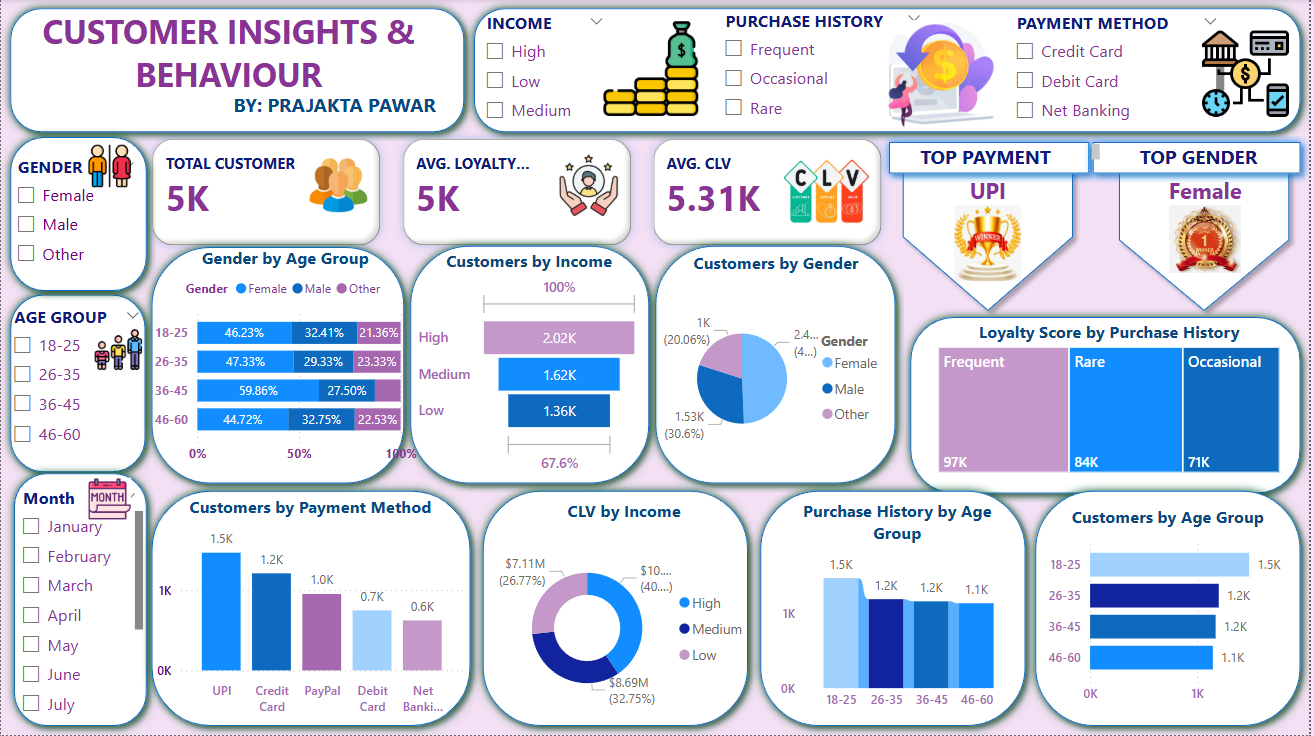

The dashboard page shown, as its layout file describes it:
{"tool":"powerbi","page":{"name":"Customer Insights & Behavior","canvas":[1280,720],"ordinal":2},"visuals":[{"type":"shape","box":[0,0,462.2,139.4],"z":0},{"type":"shape","box":[453.7,0,826.6,139.4],"z":1000},{"type":"shape","box":[0,280,150.4,192],"z":2000},{"type":"cardVisual","fields":{"Data":["updated_customer_data.TOTAL CUSTOMER","updated_customer_data.avg loyalty score","updated_customer_data.Avg Customer Lifetime Value"]},"box":[132.1,121.1,747.2,137],"z":3000},{"type":"shape","box":[873.1,151.6,184.6,162.6],"z":4000},{"type":"shape","title":"TOP PRODUCT","box":[859.7,130.8,214,48.9],"z":5000},{"type":"shape","box":[3.7,454.9,148,265.4],"z":6000},{"type":"shape","box":[138.2,472,330.2,248.2],"z":7000},{"type":"shape","box":[462.2,472,277.6,248.2],"z":8000},{"type":"shape","box":[138.2,233.6,265.4,249.5],"z":9000},{"type":"shape","box":[631,232.3,253.1,250.7],"z":10000},{"type":"shape","box":[391.3,232.3,251.9,250.7],"z":11000},{"type":"slicer","fields":{"Values":["updated_sales_data.Date.Variation.Date Hierarchy.Month"]},"box":[8.6,472,135.7,234.8],"z":12000},{"type":"slicer","fields":{"Values":["updated_customer_data.Age Group"]},"box":[0,294.7,148,149.2],"z":13000},{"type":"slicer","fields":{"Values":["updated_customer_data.Income Level"]},"box":[462.2,7.3,139.4,123.5],"z":14000},{"type":"slicer","fields":{"Values":["updated_customer_data.Purchase History"]},"box":[695.8,4.9,216.4,118.6],"z":15000},{"type":"slicer","fields":{"Values":["updated_sales_data.Payment Method"]},"box":[980.7,7.3,221.3,122.3],"z":16000},{"type":"cardVisual","fields":{"Data":["updated_customer_data.Top Payment Method"]},"box":[882.9,148,165.1,145.5],"z":17000},{"type":"shape","box":[1084.7,157.7,184.6,156.5],"z":18000},{"type":"shape","box":[1059,130.8,221.3,48.9],"z":19000},{"type":"textbox","box":[0,4.9,445.1,108.8],"z":20000},{"type":"textbox","box":[222.6,85.6,299.6,51.4],"z":21000},{"type":"cardVisual","fields":{"Data":["updated_customer_data.Top Gender"]},"box":[1085.9,148,184.6,166.3],"z":22000},{"type":"image","box":[1169,15.9,96.6,113.7],"z":23000},{"type":"textbox","box":[859.7,137,220.1,33],"z":24000},{"type":"textbox","box":[1073.6,137,195.7,42.8],"z":25000},{"type":"hundredPercentStackedBarChart","title":"Gender by Age Group","fields":{"Category":["updated_customer_data.Age Group"],"Y":["CountNonNull(updated_customer_data.Gender)"],"Series":["updated_customer_data.Gender"]},"box":[144.3,242.1,267.8,221.3],"z":26000},{"type":"shape","box":[0,126,151.6,168.8],"z":27000},{"type":"slicer","fields":{"Values":["updated_customer_data.Gender"]},"box":[3.7,148,139.4,132.1],"z":28000},{"type":"image","box":[584.5,4.9,102.7,126],"z":29000},{"type":"image","box":[859.7,15.9,121.1,114.9],"z":30000},{"type":"image","box":[80.7,137,51.4,52.6],"z":31000},{"type":"image","box":[86.8,314.3,56.3,57.5],"z":32000},{"type":"image","box":[80.7,463.5,51.4,51.4],"z":33000},{"type":"funnel","title":"Customers by Income ","fields":{"Category":["updated_customer_data.Income Level"],"Y":["CountNonNull(updated_customer_data.Customer ID)"]},"box":[403.5,244.6,226.2,223.8],"z":34000},{"type":"clusteredColumnChart","title":"Customers by Payment Method","fields":{"Category":["updated_customer_data.Preferred Payment Method"],"Y":["CountNonNull(updated_customer_data.Customer ID)"]},"box":[148,485.5,309.4,222.6],"z":35000},{"type":"shape","box":[880.4,302,399.9,190.8],"z":36000},{"type":"treemap","title":"Loyalty Score by Purchase History","fields":{"Group":["updated_customer_data.Purchase History"],"Values":["Sum(updated_customer_data.Loyalty Score)"]},"box":[912.2,314.3,343.6,154.1],"z":37000},{"type":"shape","box":[733.7,472,277.6,248.2],"z":38000},{"type":"shape","box":[1002.7,472,277.6,248.2],"z":39000},{"type":"columnChart","title":"Purchase History by Age Group","fields":{"Y":["CountNonNull(updated_customer_data.Purchase History)"],"Category":["updated_customer_data.Age Group"]},"box":[758.2,489.1,237.2,215.2],"z":40000},{"type":"pieChart","title":"Customers by Gender","fields":{"Y":["CountNonNull(updated_customer_data.Customer ID)"],"Category":["updated_customer_data.Gender"]},"box":[643.2,247,229.9,227.4],"z":41000},{"type":"barChart","title":"Customers  by Age Group","fields":{"Category":["updated_customer_data.Age Group"],"Y":["CountNonNull(updated_customer_data.Customer ID)"]},"box":[1018.6,495.2,245.8,203],"z":42000},{"type":"donutChart","title":"CLV by Income","fields":{"Category":["updated_customer_data.Income Level"],"Y":["Sum(updated_customer_data.Customer Lifetime Value ($))"]},"box":[479.4,489.1,260.5,231.1],"z":43000}]}

Visuals, with their boxes in screenshot pixels (x1, y1, x2, y2), scaled from the page's 1280x720 canvas onto the 1314x736 screenshot:
shape: (0,0,474,142)
shape: (466,0,1313,142)
shape: (0,286,154,482)
cardVisual - updated_customer_data.TOTAL CUSTOMER x updated_customer_data.avg loyalty score: (136,124,903,264)
shape: (896,155,1086,321)
"TOP PRODUCT" shape: (883,134,1102,184)
shape: (4,465,156,735)
shape: (142,482,481,735)
shape: (474,482,759,735)
shape: (142,239,414,494)
shape: (648,237,908,494)
shape: (402,237,660,494)
slicer - updated_sales_data.Date.Variation.Date Hierarchy.Month: (9,482,148,723)
slicer - updated_customer_data.Age Group: (0,301,152,454)
slicer - updated_customer_data.Income Level: (474,7,618,134)
slicer - updated_customer_data.Purchase History: (714,5,936,126)
slicer - updated_sales_data.Payment Method: (1007,7,1234,132)
cardVisual - updated_customer_data.Top Payment Method: (906,151,1076,300)
shape: (1114,161,1303,321)
shape: (1087,134,1313,184)
textbox: (0,5,457,116)
textbox: (229,88,536,140)
cardVisual - updated_customer_data.Top Gender: (1115,151,1304,321)
image: (1200,16,1299,132)
textbox: (883,140,1108,174)
textbox: (1102,140,1303,184)
"Gender by Age Group" hundredPercentStackedBarChart: (148,247,423,474)
shape: (0,129,156,301)
slicer - updated_customer_data.Gender: (4,151,147,286)
image: (600,5,705,134)
image: (883,16,1007,134)
image: (83,140,136,194)
image: (89,321,147,380)
image: (83,474,136,526)
"Customers by Income " funnel: (414,250,646,479)
"Customers by Payment Method" clusteredColumnChart: (152,496,470,724)
shape: (904,309,1313,504)
"Loyalty Score by Purchase History" treemap: (936,321,1289,479)
shape: (753,482,1038,735)
shape: (1029,482,1313,735)
"Purchase History by Age Group" columnChart: (778,500,1022,720)
"Customers by Gender" pieChart: (660,252,896,485)
"Customers  by Age Group" barChart: (1046,506,1298,714)
"CLV by Income" donutChart: (492,500,760,735)
